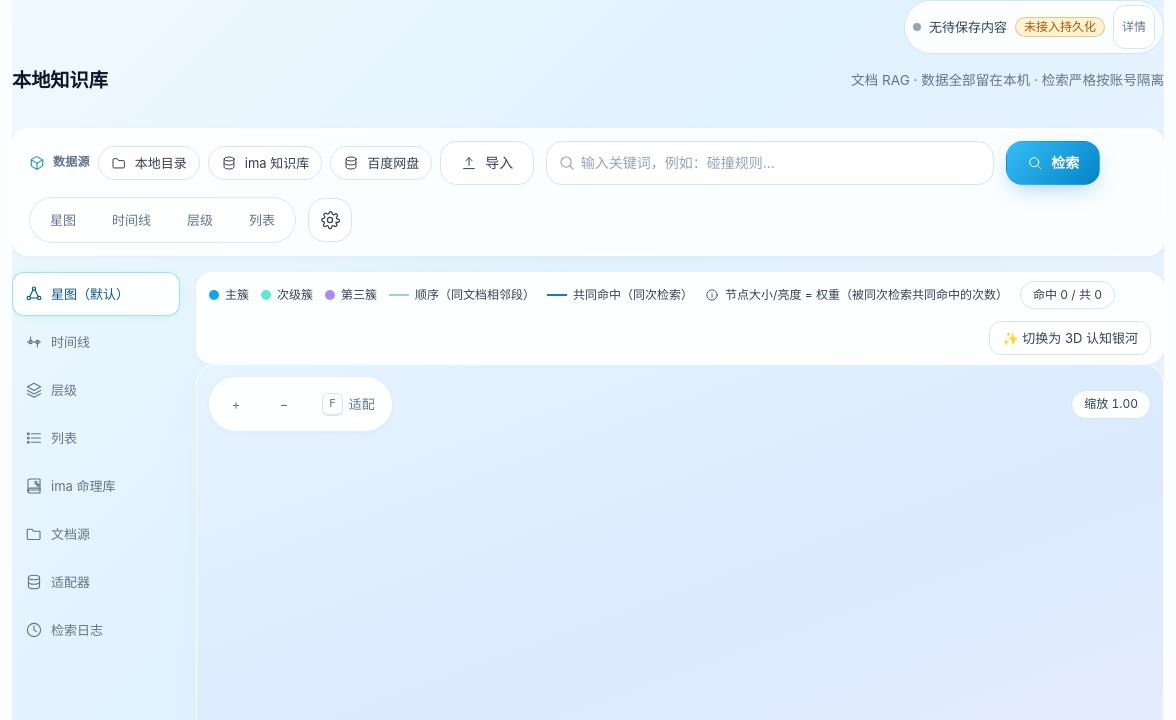
KnowledgePage · 检索 › 没有命中时明说没有命中，不渲染结果卡片
Type "区块链" into the field named "知识库检索词" at (770, 163), box top-left (546, 141), bottom-right (994, 185)
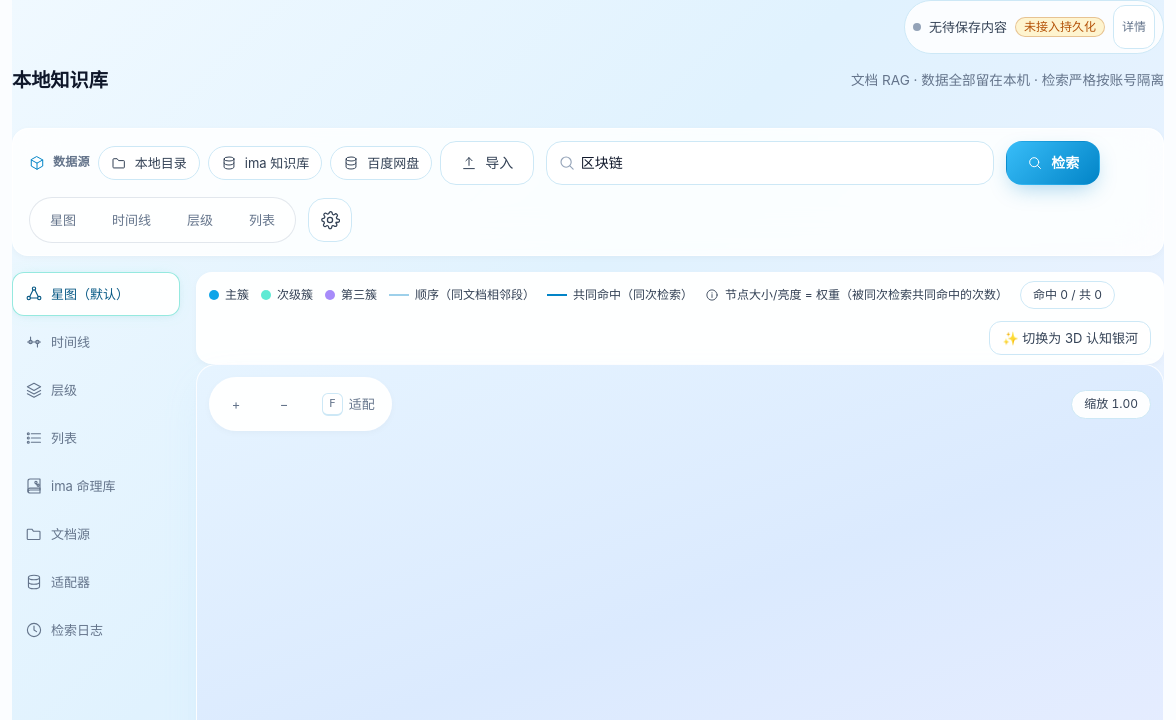
Click the button "检索" at (1053, 163), box top-left (1006, 141), bottom-right (1100, 185)
(page scrolled)
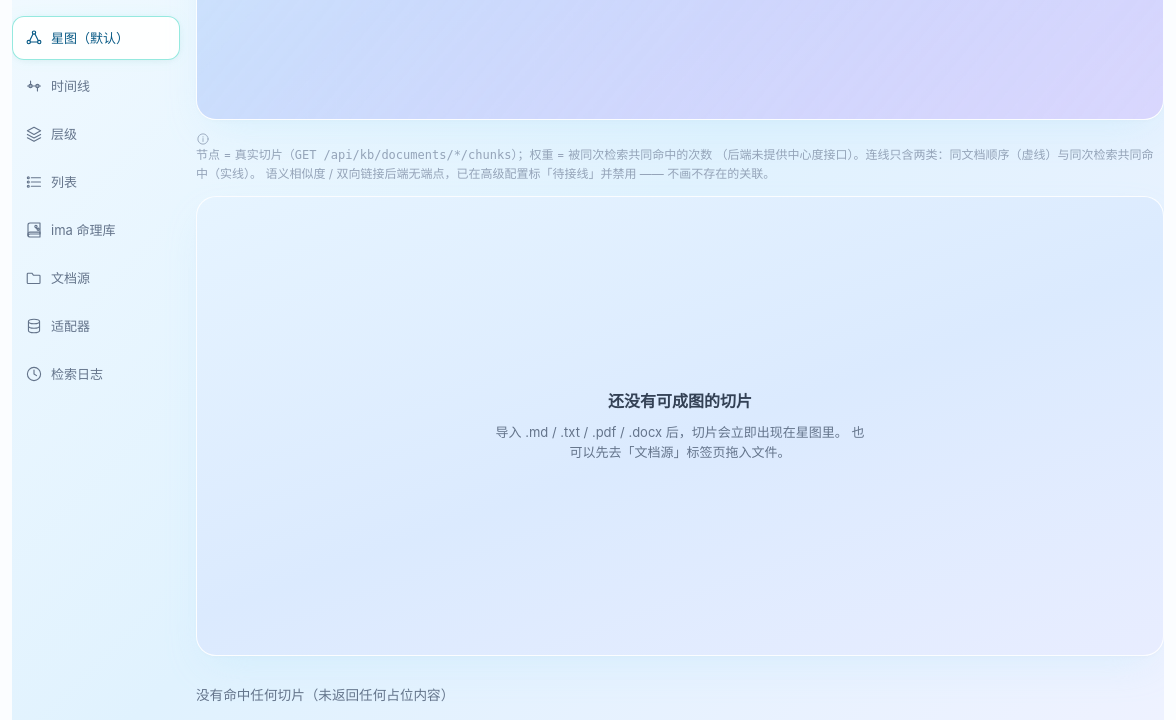
expect the text with test id "kb-search-summary" shows "没有命中": met, box top-left (196, 687), bottom-right (454, 703)
